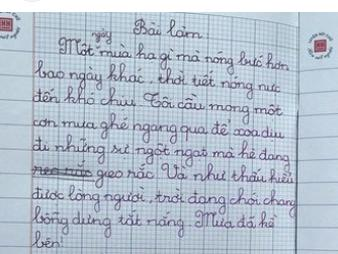text: (57, 28, 293, 78), (30, 131, 293, 175), (31, 83, 285, 128), (34, 57, 282, 101), (30, 182, 299, 221), (31, 110, 289, 146), (32, 204, 279, 241), (32, 160, 296, 192), (130, 13, 205, 43), (31, 229, 68, 251)
